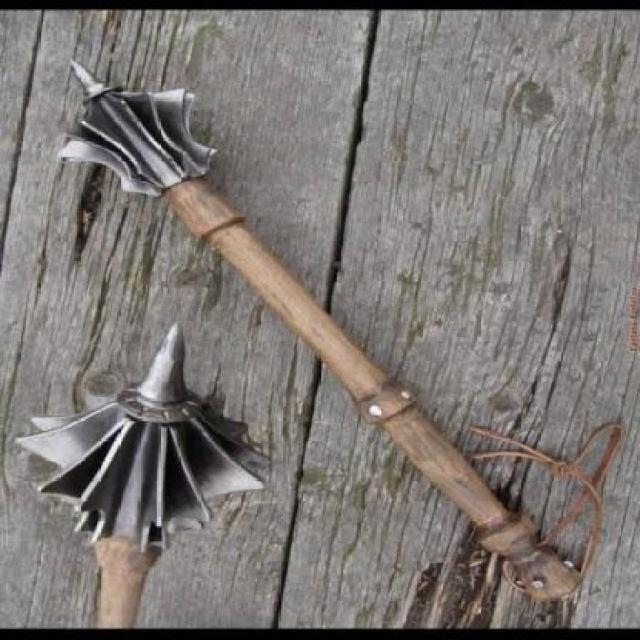weapon: (56, 56, 590, 602), (14, 320, 271, 628)
